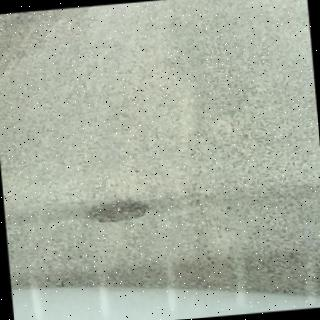pothole: (89, 201, 150, 224)
